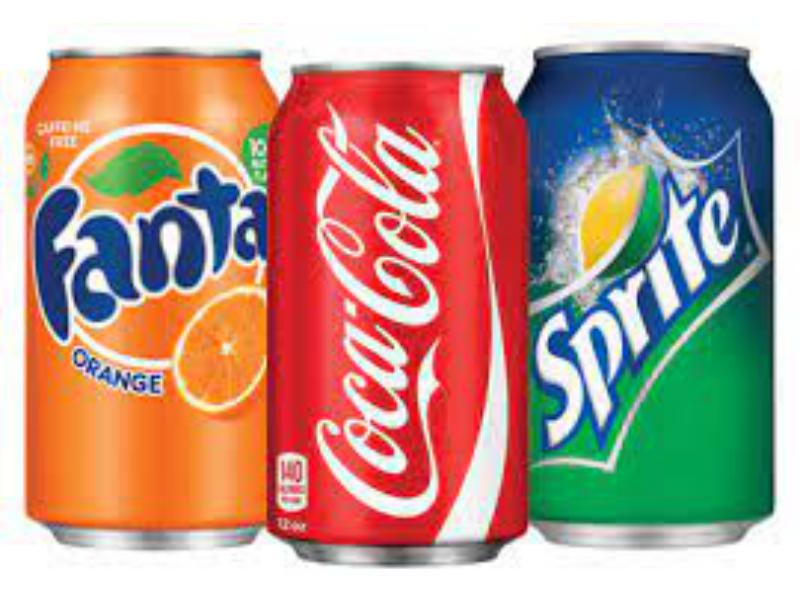can: (266, 58, 527, 570), (18, 33, 268, 555), (523, 39, 778, 549)
